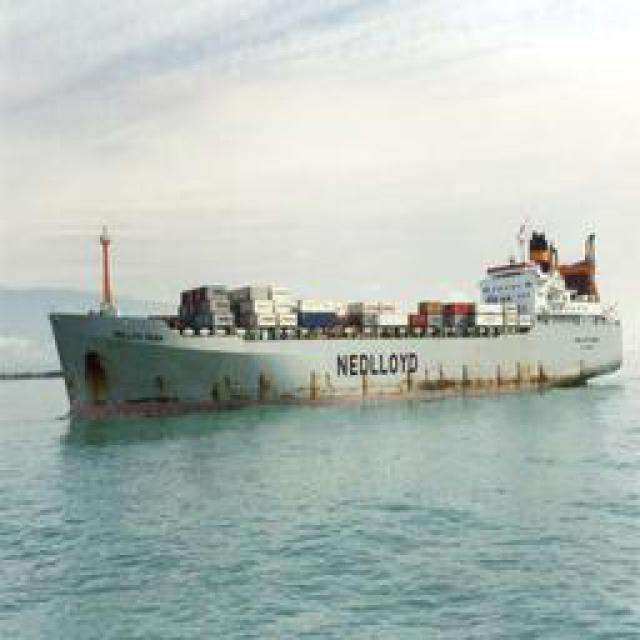Ship: (41, 213, 624, 421)
